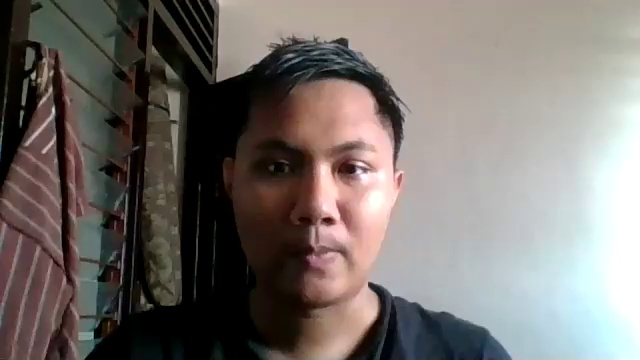Not Distracted: (214, 86, 410, 300)
